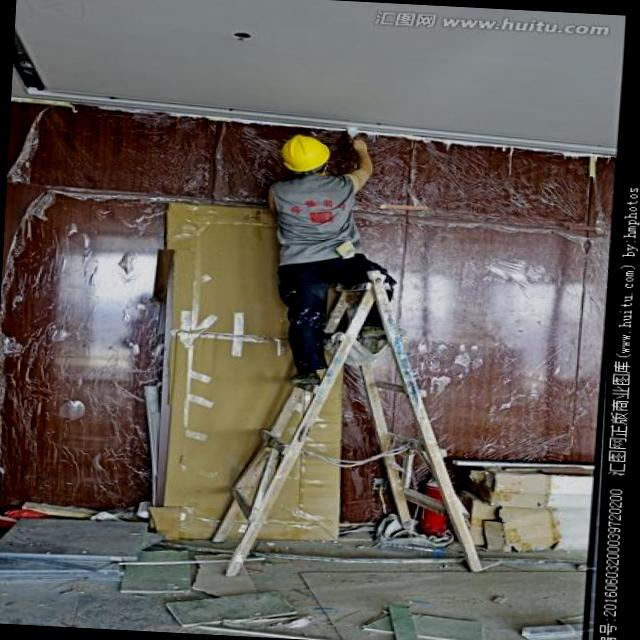helmet: (262, 124, 338, 180)
no-vest: (257, 172, 373, 276)
